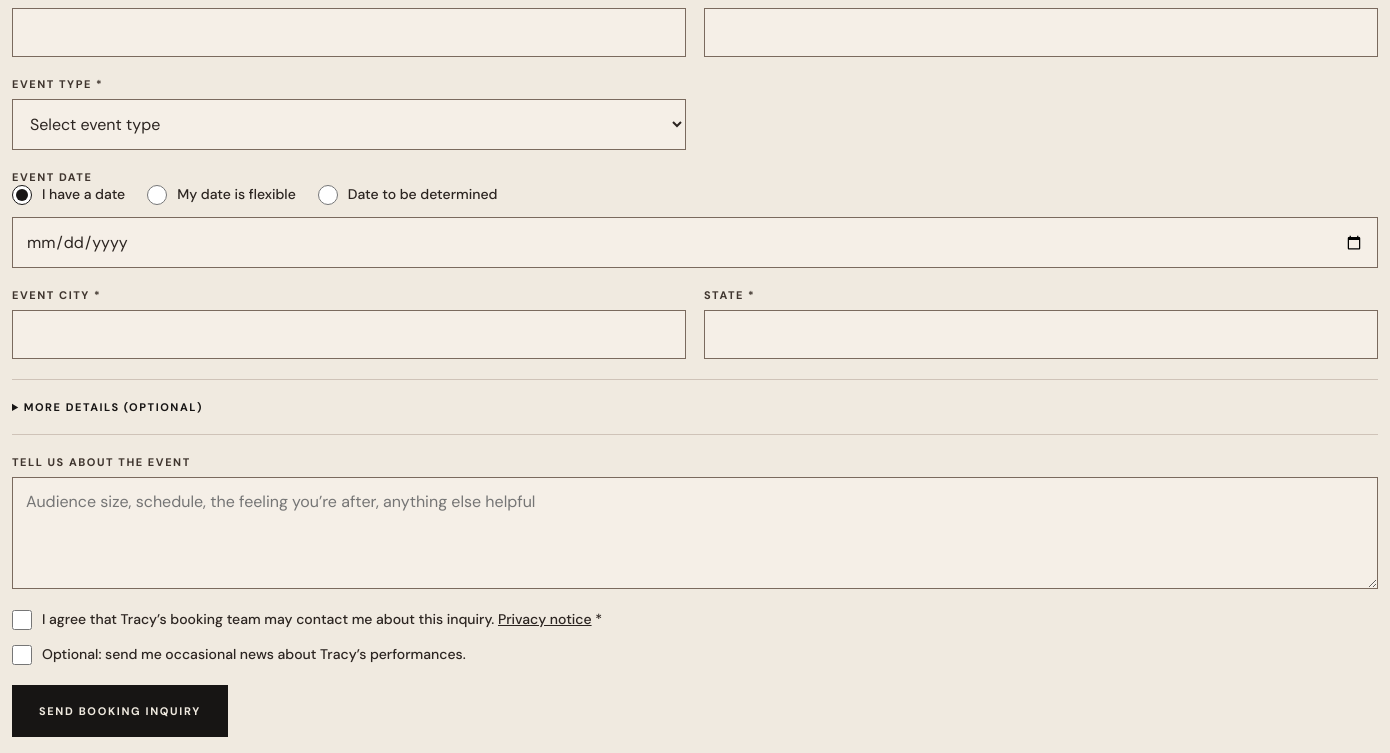
Test: BookingInquiryForm › shows inline errors and sends nothing when required fields are missing
This screenshot has width=1390, height=753.
Click the button "Send booking inquiry": (120,711) [12,685,228,737]
(page scrolled)
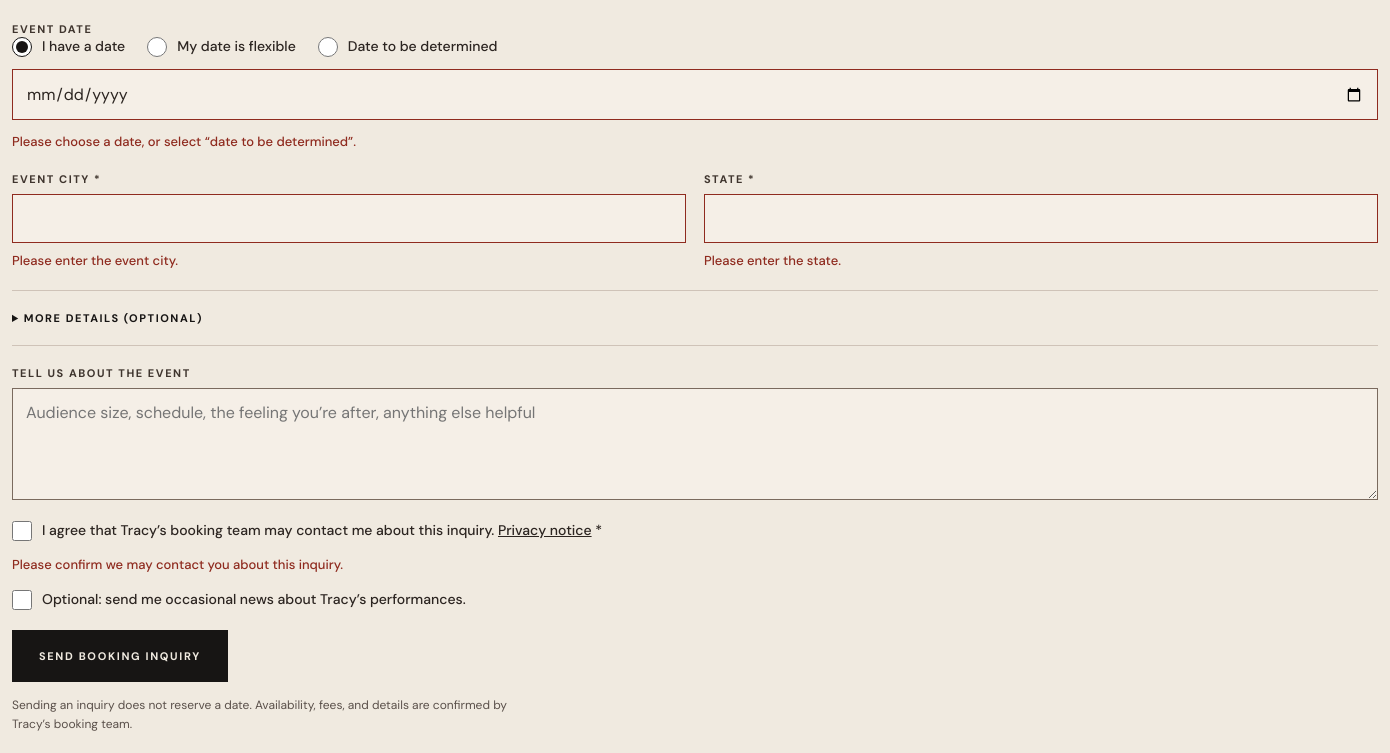
Check: the text "Please confirm we may contact you about this inquiry." is shown, box [12,556,343,573]
